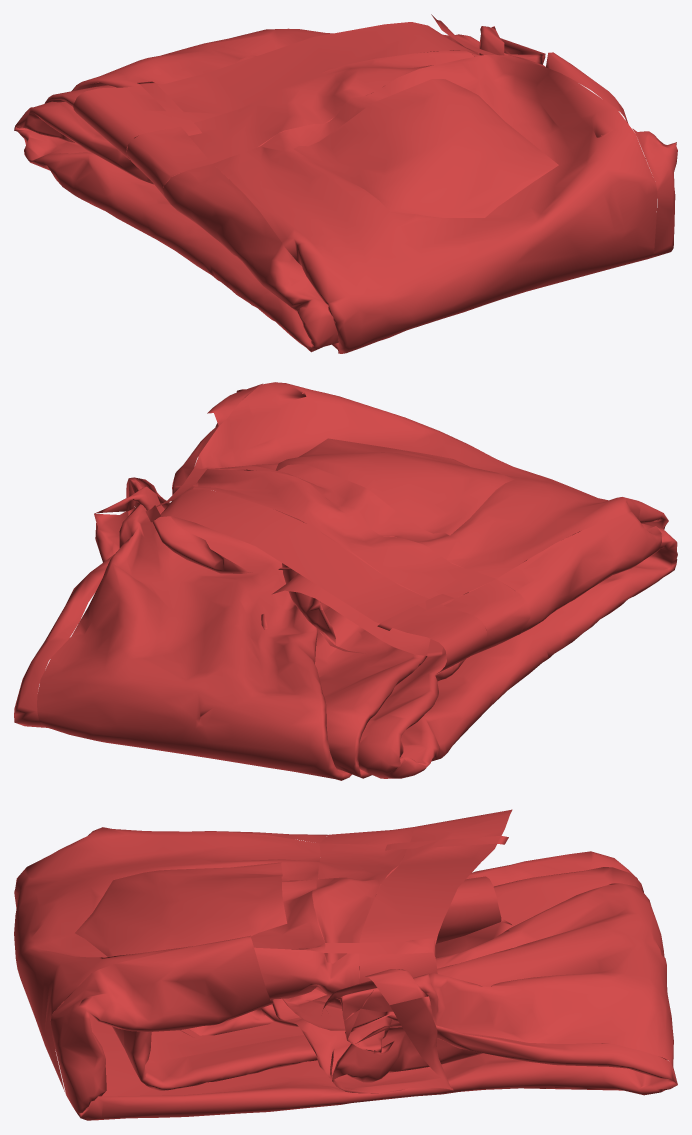
File: jins_2.gltf
3 views of the same model, one above another, from view 1: azimuth 30°, elevation 25°; view 2: azimuth 150°, elevation 25°; view 3: azimuth 270°, elevation 25° (orthographic). The views are drawn at different scales.
Parts seen in each view (by area): view 1: Jeans_004; view 2: Jeans_004; view 3: Jeans_004.
Part boxes in pixels (bbox=[...]): Jeans_004: bbox=[14, 14, 677, 353]; Jeans_004: bbox=[14, 382, 677, 780]; Jeans_004: bbox=[14, 809, 677, 1120].
Bounding box in the file's own units: 24.13 × 8.73 × 31.48.
